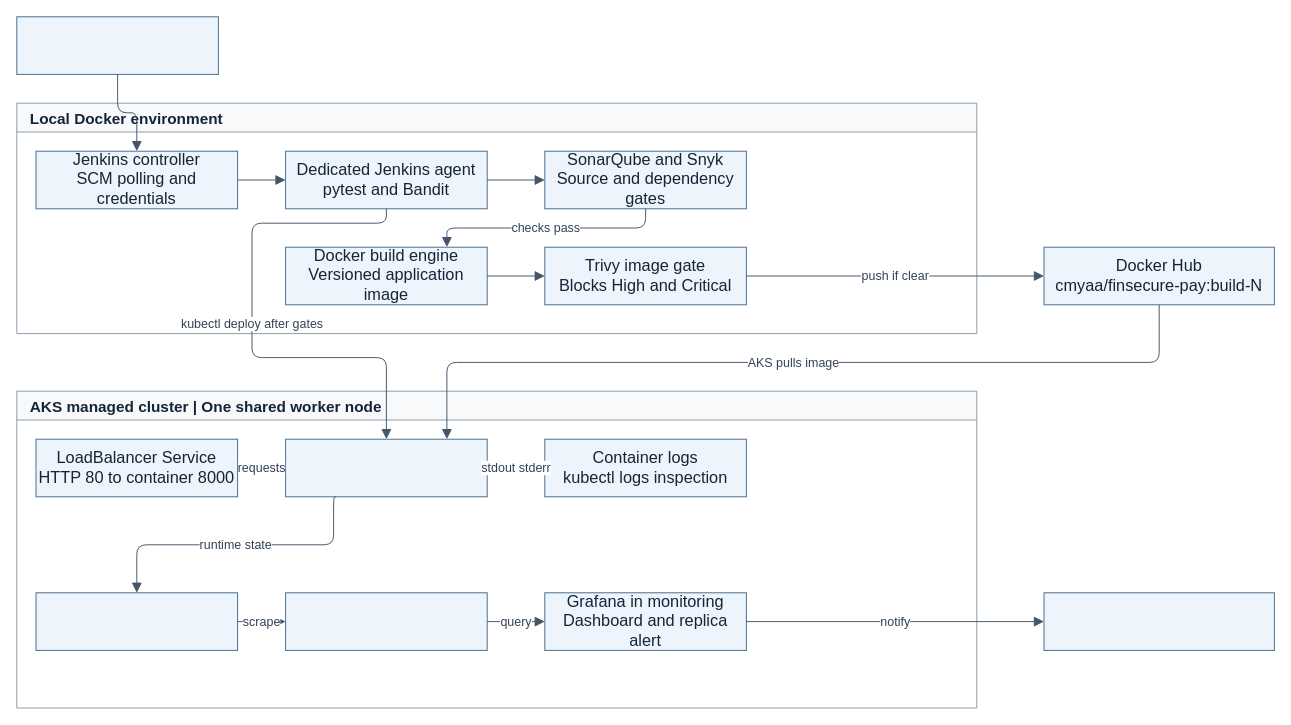
The diagram is 1291 pixels wide and 725 high, and some of its shapes have lost their labels. The centre of each missing label's shape, as x and y in pixels:
"Deployment in default Two Flask and Gunicorn pods" goes at [386,467].
"Discord Firing and Resolved messages" goes at [1158,621].
"GitHub Source and Jenkinsfile" goes at [117,45].
"Kubelet and exporters CPU memory and replica metrics" goes at [136,621].
"Prometheus in monitoring Persistent metrics storage" goes at [386,621].
